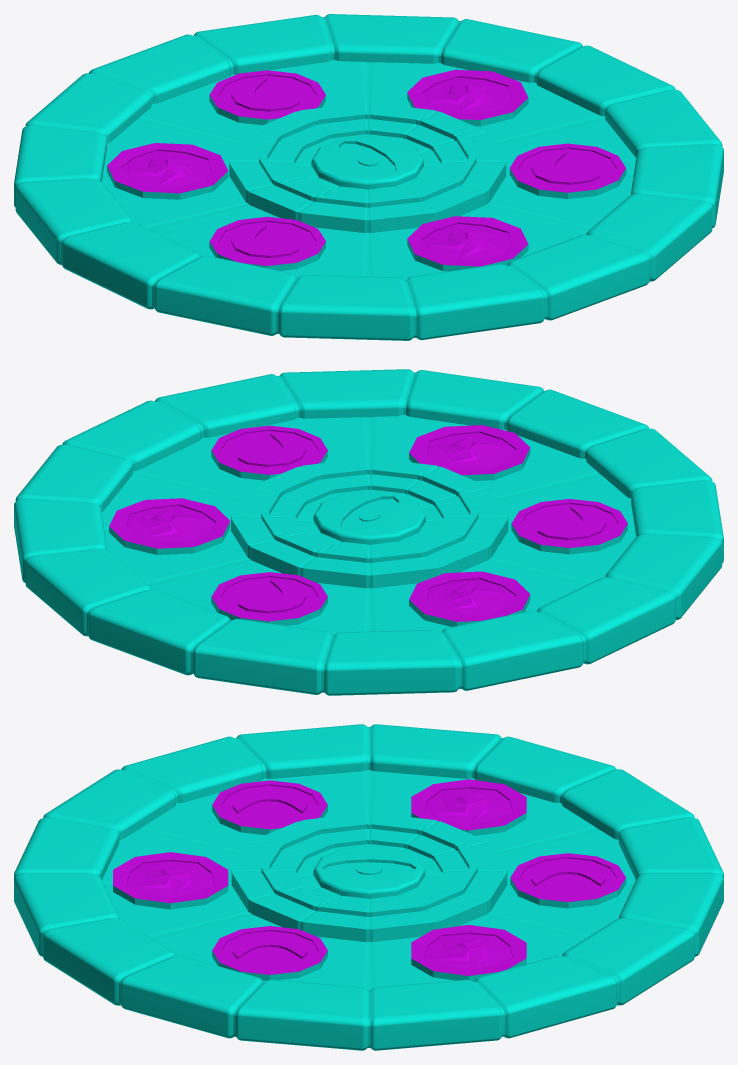
Rendered from MOD_Ruins_EndBase.fbx.
3 renders of one model, top to bottom at view 1: azimuth 30°, elevation 25°; view 2: azimuth 150°, elevation 25°; view 3: azimuth 270°, elevation 25°, orthographic.
Parts seen in each view (by area): view 1: pCylinder39; view 2: pCylinder39; view 3: pCylinder39.
Boxes of the visible parts, x1,y1,x2,y2 form: pCylinder39: (14, 14, 723, 340); pCylinder39: (14, 369, 723, 695); pCylinder39: (14, 724, 723, 1050).
Bounding box in the file's own units: 1197 × 67.56 × 1197.
